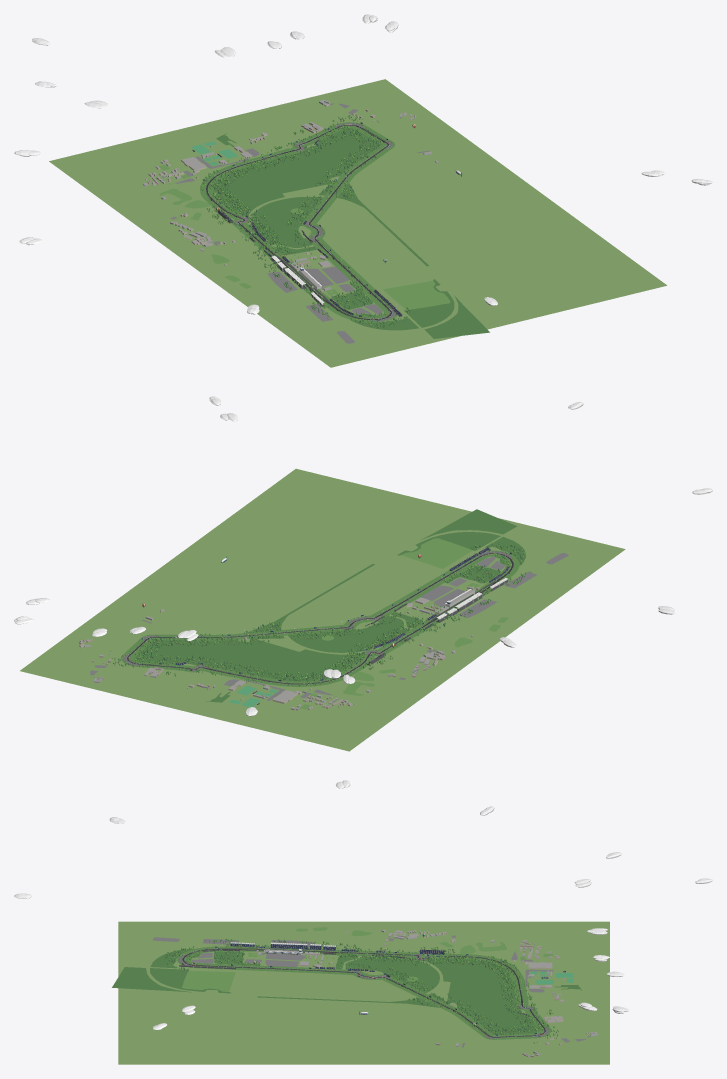
Rendered from monza.glb.
The picture shows the model from 3 angles, top to bottom: view 1: azimuth 30°, elevation 25°; view 2: azimuth 150°, elevation 25°; view 3: azimuth 270°, elevation 25°; orthographic projection. The views are drawn at different scales.
Parts seen in each view (by area): view 1: SueloBase, Bosques, Pasto, Arboles, Edificios, AreasVerdes, Estacionamientos, Nubes, Asfalto, MurosContencion; view 2: SueloBase, Bosques, Pasto, Arboles, Edificios, AreasVerdes, Estacionamientos, Nubes, Asfalto, MurosContencion; view 3: SueloBase, Bosques, Pasto, Arboles, Edificios, AreasVerdes, Estacionamientos, Nubes, Asfalto, MurosContencion.
Boxes of the visible parts, x1,y1,x2,y2 form: SueloBase: (49,79,666,367); Bosques: (214,128,489,338); Pasto: (200,122,397,322); Arboles: (201,114,413,328); Edificios: (143,99,438,292); AreasVerdes: (158,154,450,309); Estacionamientos: (160,103,429,343); Nubes: (14,14,712,314); Asfalto: (206,125,392,319); MurosContencion: (207,123,392,321); SueloBase: (20,468,625,751); Bosques: (134,509,525,702); Pasto: (121,550,519,686); Arboles: (108,542,531,686); Edificios: (79,586,479,710); AreasVerdes: (230,538,508,709); Estacionamientos: (90,553,568,703); Nubes: (14,396,712,716); Asfalto: (127,553,513,684); MurosContencion: (123,551,513,684); SueloBase: (118,921,609,1064); Bosques: (112,948,581,1034); Pasto: (177,946,550,1039); Arboles: (164,938,558,1043); Edificios: (256,929,597,1057); AreasVerdes: (181,927,553,993); Estacionamientos: (153,935,589,1047); Nubes: (14,780,712,1030); Asfalto: (182,948,545,1037); MurosContencion: (178,948,549,1038).
Bounding box in the file's own units: 3526 × 483 × 4195.
Materials: 50 (6 with a texture image).
